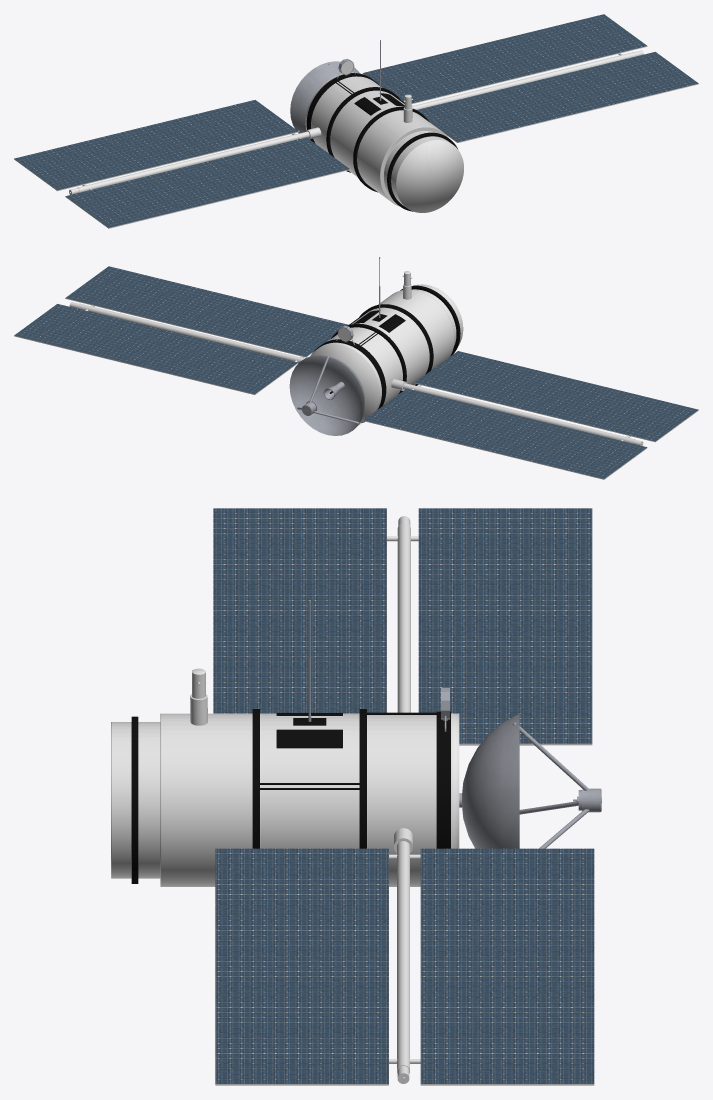
File: satellite.glb
3 renders of one model, top to bottom at view 1: azimuth 30°, elevation 25°; view 2: azimuth 150°, elevation 25°; view 3: azimuth 270°, elevation 25°, orthographic. The views are drawn at different scales.
Visible parts, largest first — view 1: panel1, panel2, body; view 2: panel1, panel2, body; view 3: panel2, panel1, body.
Boxes of the visible parts, box(x1,y1,x2,y2) form: panel1: box(14, 100, 350, 228); panel2: box(362, 14, 698, 142); body: box(290, 40, 463, 212); panel1: box(363, 351, 698, 479); panel2: box(14, 266, 348, 394); body: box(289, 257, 463, 435); panel2: box(215, 828, 594, 1085); panel1: box(213, 508, 592, 745); body: box(111, 600, 601, 886).
Bounding box in the file's own units: 15.68 × 3.82 × 5.65.
Materials: 7 (2 with a texture image).
